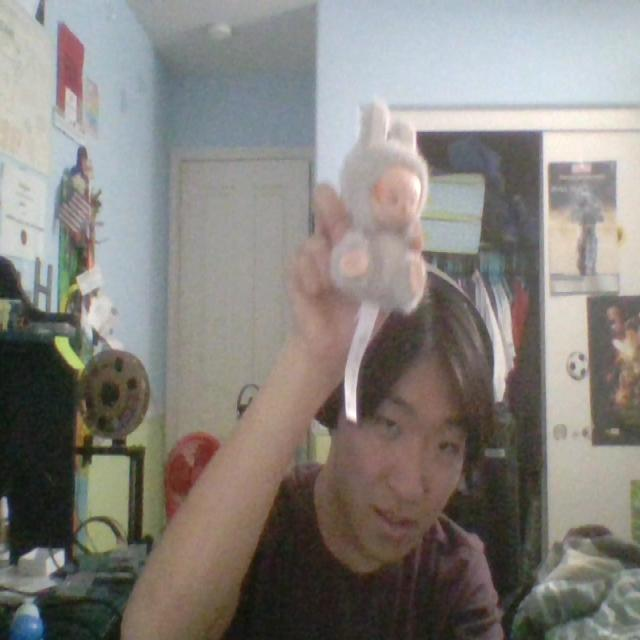labubu: (331, 104, 428, 312)
